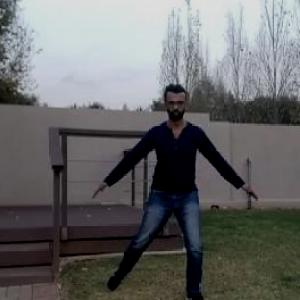land: (112, 85, 245, 299)
